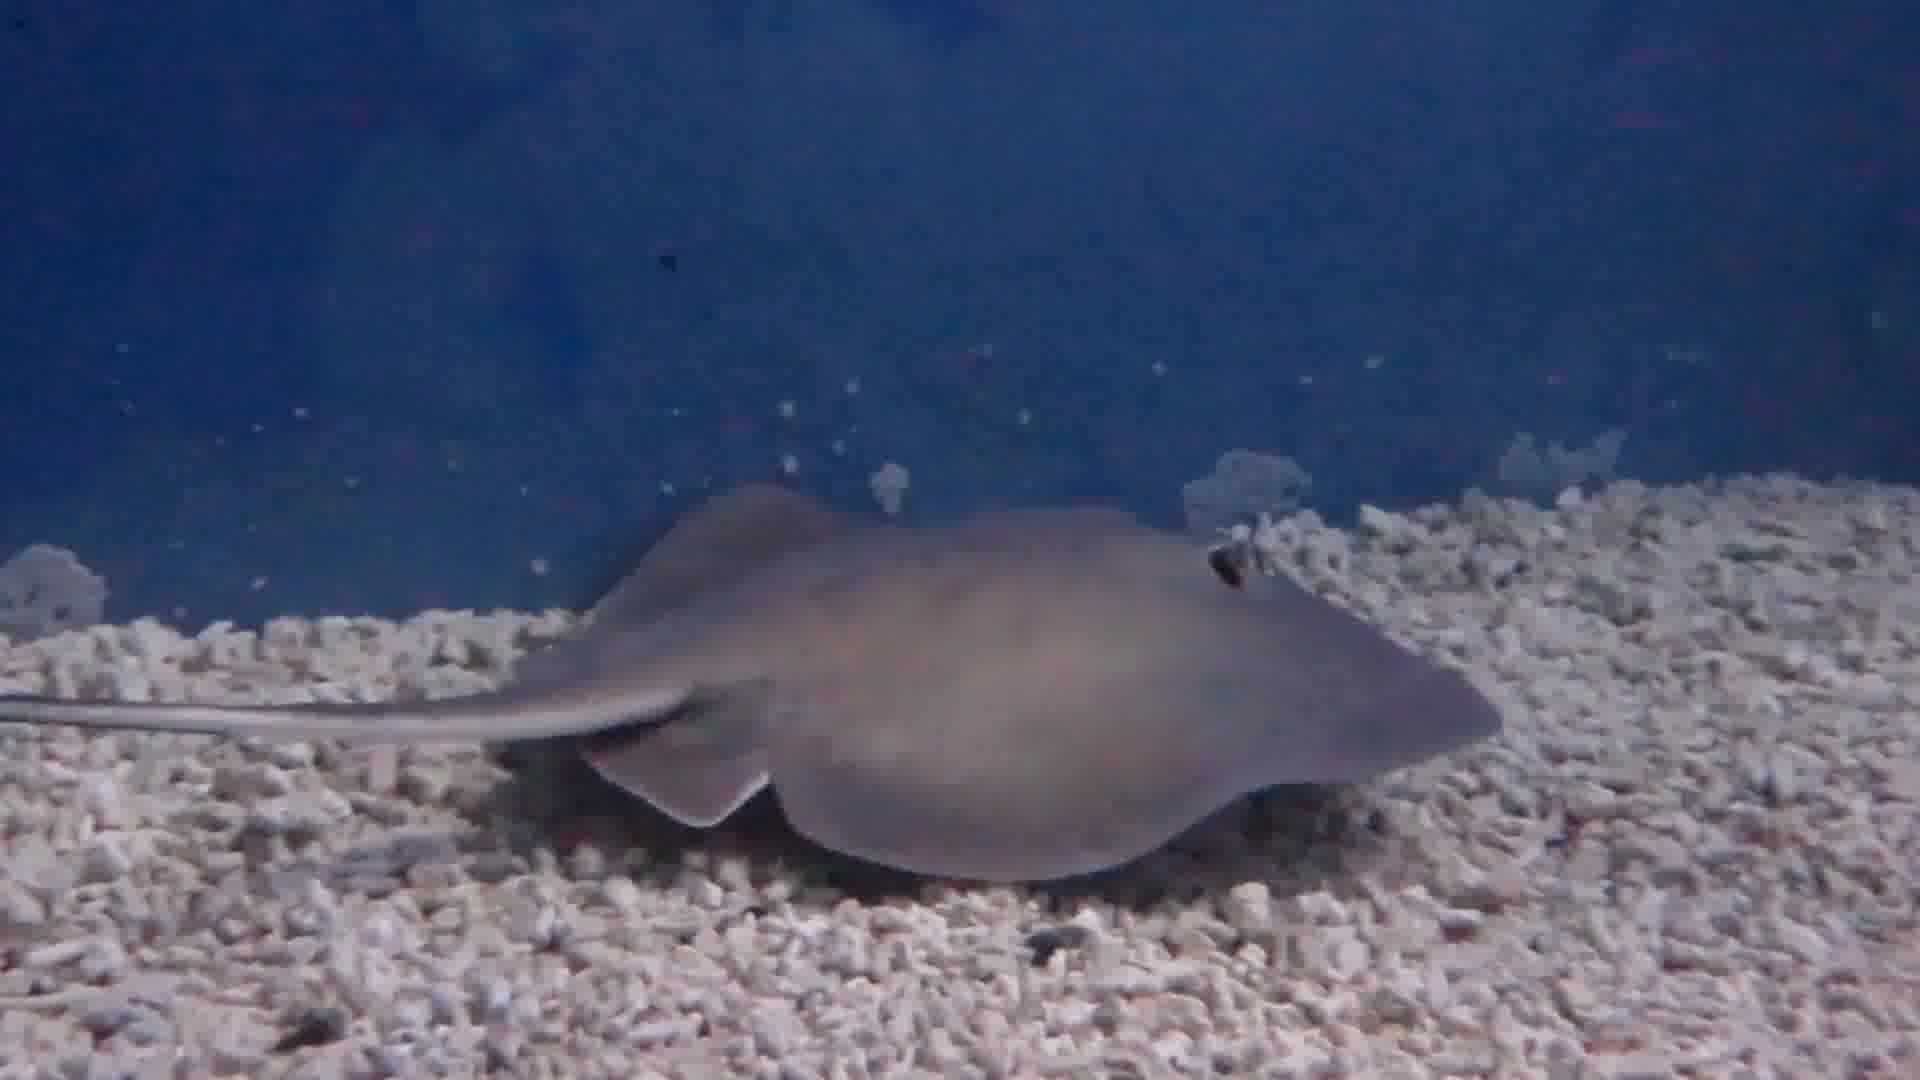Dasyatis bennetti: (375, 171, 1622, 1013)
